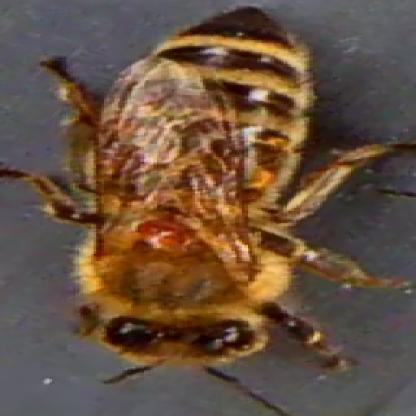bee: (89, 11, 306, 376)
vaoora: (140, 216, 188, 251)
